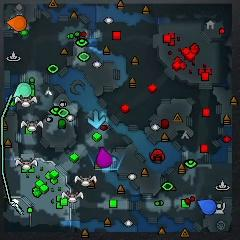p1: (197, 199, 216, 215)
p2: (14, 83, 32, 98)
p3: (96, 147, 111, 168)
p5: (6, 15, 27, 31)
x3: (88, 111, 105, 128)
